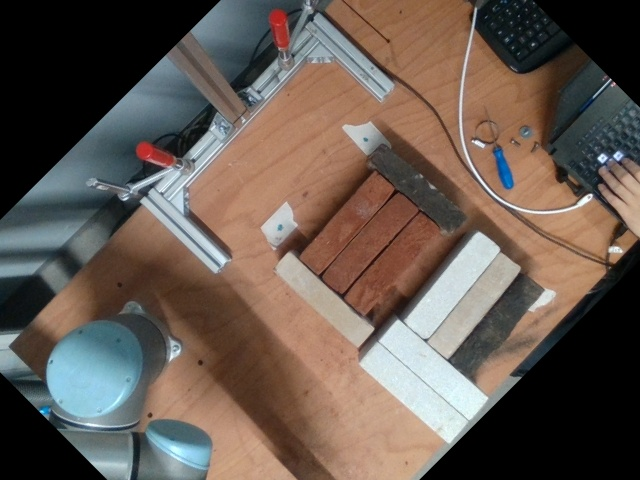brick-side: (359, 343, 468, 443), (378, 320, 487, 420), (404, 230, 502, 340), (425, 251, 522, 361), (450, 272, 545, 378), (344, 212, 440, 315), (300, 172, 396, 274), (321, 192, 417, 294), (274, 251, 373, 347), (367, 142, 466, 234)
